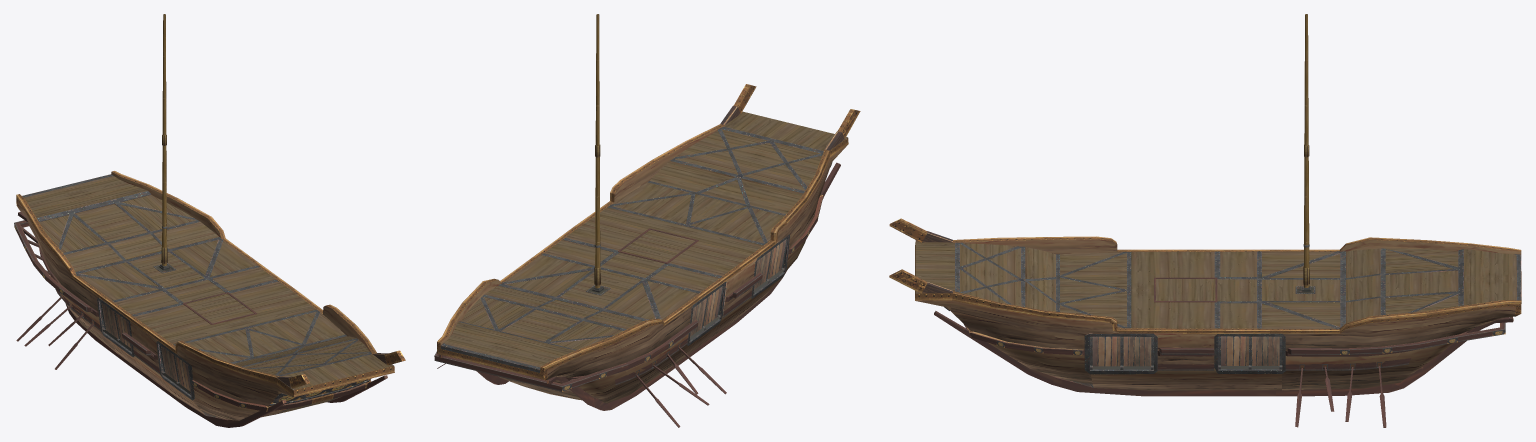
Rendered from oBldShip01a.FBX.
The picture shows the model from 3 angles, left to right: view 1: azimuth 30°, elevation 25°; view 2: azimuth 150°, elevation 25°; view 3: azimuth 270°, elevation 25°; orthographic projection. The views are drawn at different scales.
Visible parts, largest first — view 1: oBldShip01a; view 2: oBldShip01a; view 3: oBldShip01a.
Part boxes in pixels (x1=…): oBldShip01a: x1=14, y1=14, x2=405, y2=427; oBldShip01a: x1=434, y1=14, x2=860, y2=427; oBldShip01a: x1=889, y1=14, x2=1521, y2=427.
Size of the model in its own units: 258 by 333 by 539.
Materials: 1 (1 with a texture image).
